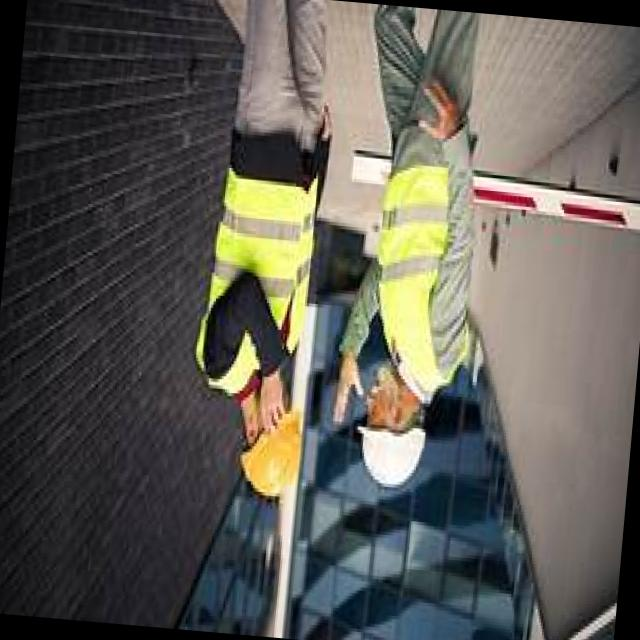not-gloved: (412, 63, 470, 151), (256, 364, 300, 443), (334, 348, 366, 434)
